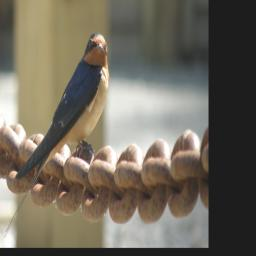Swallow: (1, 32, 110, 240)
